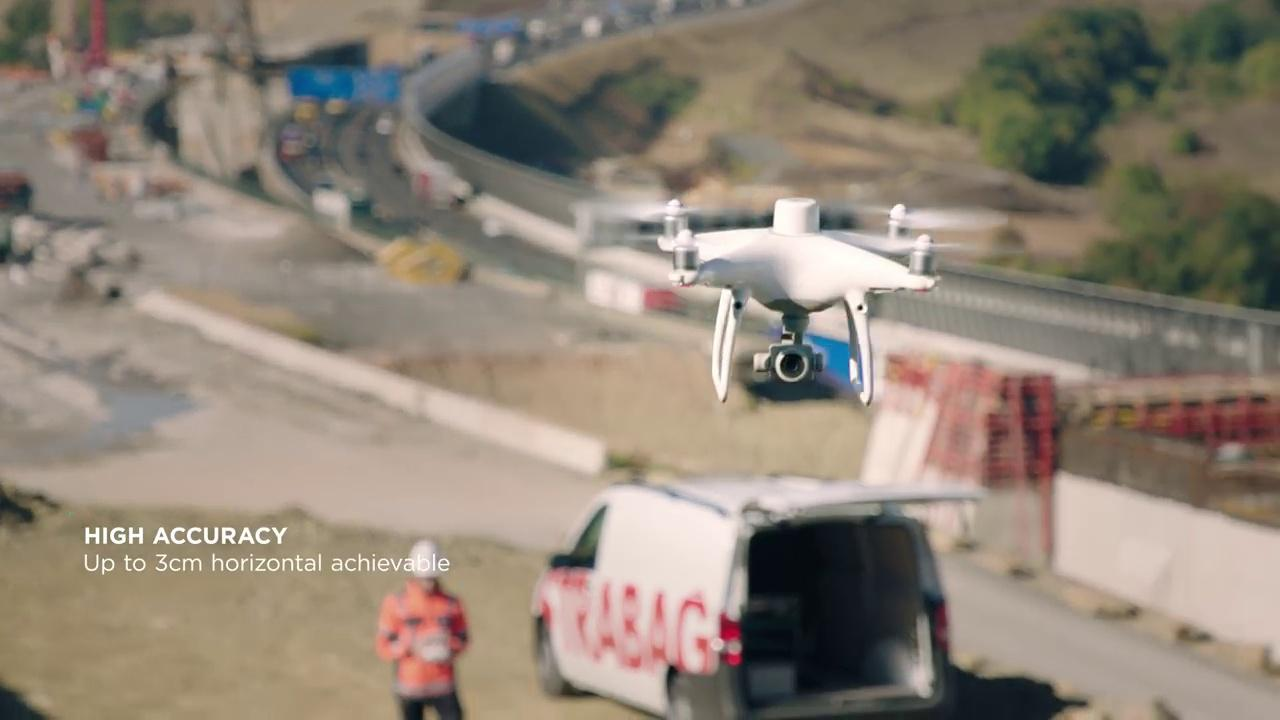drone: (567, 191, 1010, 404)
